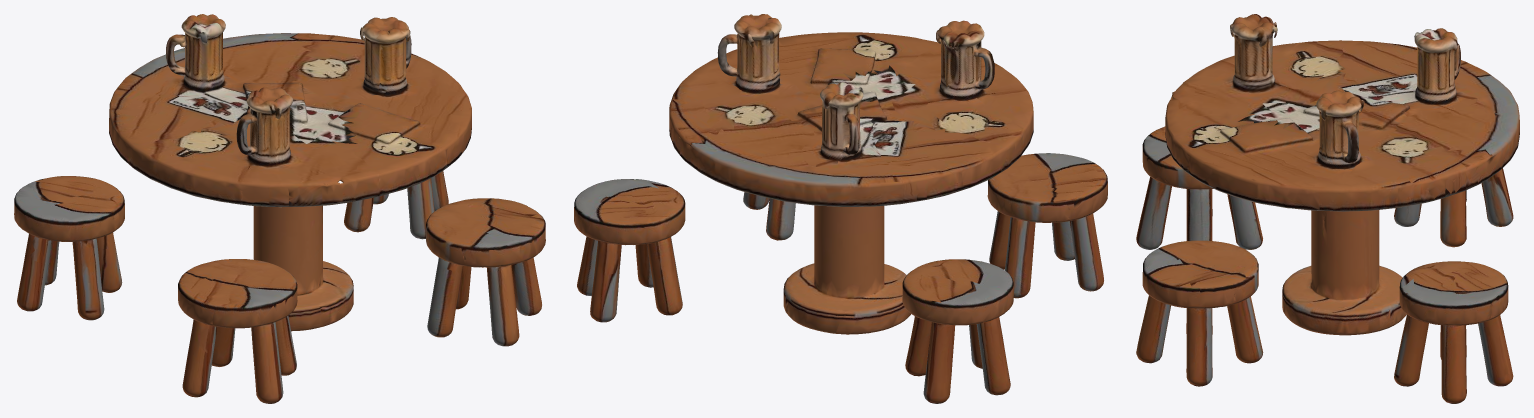
File: pub.glb
3 views of the same model, side by side, from view 1: azimuth 30°, elevation 25°; view 2: azimuth 150°, elevation 25°; view 3: azimuth 270°, elevation 25° (orthographic). The views are drawn at different scales.
Visible parts, largest first — view 1: tripo_node_cf3779e1-8421-4c63-ab00-6bfa7537fc51; view 2: tripo_node_cf3779e1-8421-4c63-ab00-6bfa7537fc51; view 3: tripo_node_cf3779e1-8421-4c63-ab00-6bfa7537fc51.
Boxes of the visible parts, box(x1,y1,x2,y2) form: tripo_node_cf3779e1-8421-4c63-ab00-6bfa7537fc51: box(14, 14, 545, 403); tripo_node_cf3779e1-8421-4c63-ab00-6bfa7537fc51: box(574, 14, 1107, 403); tripo_node_cf3779e1-8421-4c63-ab00-6bfa7537fc51: box(1136, 14, 1519, 403).
Bounding box in the file's own units: 1 × 0.5824 × 0.7884.
1 material, 1 textured.
